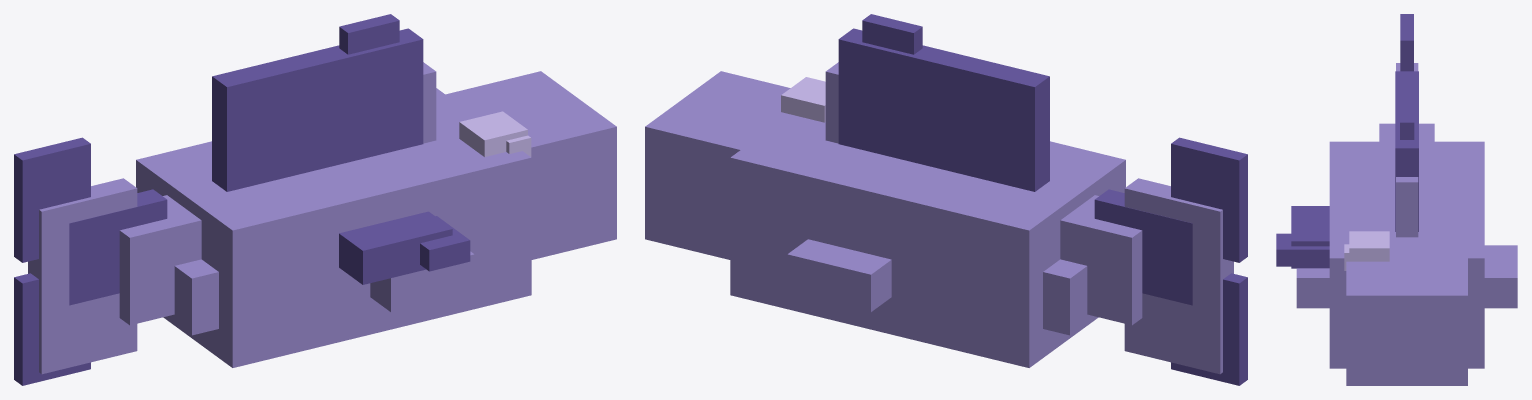
Rendered from fish_prism_goby.glb.
The picture shows the model from 3 angles, left to right: view 1: azimuth 30°, elevation 25°; view 2: azimuth 150°, elevation 25°; view 3: azimuth 270°, elevation 25°; orthographic projection. The views are drawn at different scales.
Parts seen in each view (by area): view 1: FishArt_body, FishArt_dorsal, FishArt_tail, FishArt_pectoral, FishArt_eye; view 2: FishArt_body, FishArt_dorsal, FishArt_tail, FishArt_eye; view 3: FishArt_body, FishArt_pectoral, FishArt_dorsal, FishArt_eye, FishArt_tail.
Part boxes in pixels (x1,y1,x2,y2): FishArt_body: (28,62,616,374); FishArt_dorsal: (212,14,423,191); FishArt_tail: (14,137,167,385); FishArt_pectoral: (339,211,470,284); FishArt_eye: (459,111,531,156); FishArt_body: (645,62,1233,374); FishArt_dorsal: (838,14,1049,191); FishArt_tail: (1094,137,1247,385); FishArt_eye: (781,77,825,122); FishArt_body: (1296,63,1517,385); FishArt_pectoral: (1276,206,1329,268); FishArt_dorsal: (1395,71,1418,231); FishArt_eye: (1344,231,1389,270); FishArt_tail: (1400,14,1413,71).
Size of the model in its own units: 0.3091 by 0.1442 by 0.1439.
